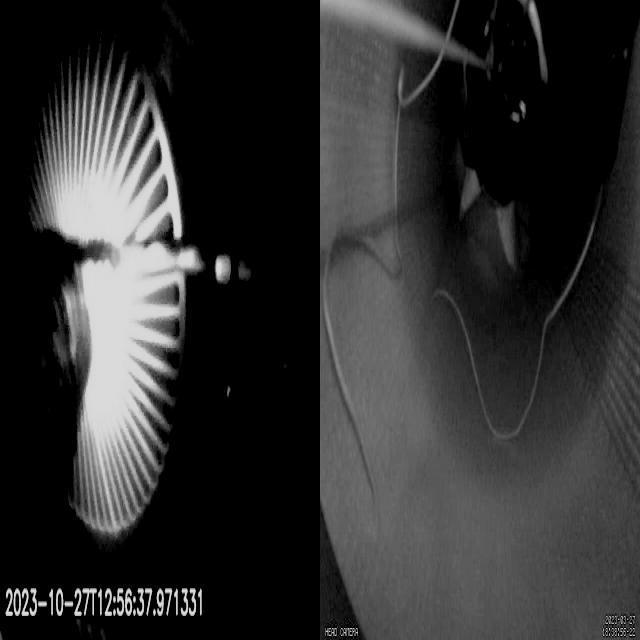white-dots: (215, 253, 270, 286)
